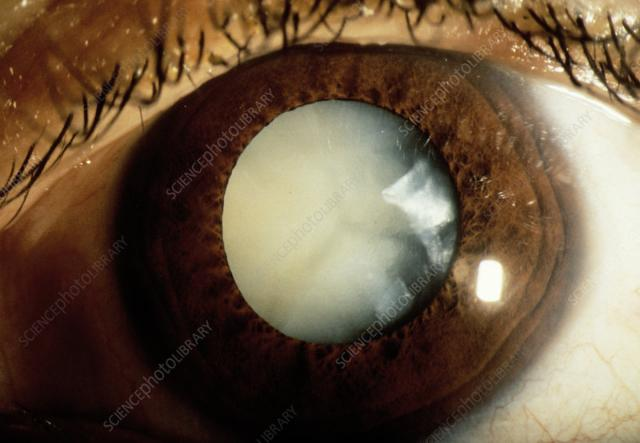eye: (111, 35, 597, 443)
